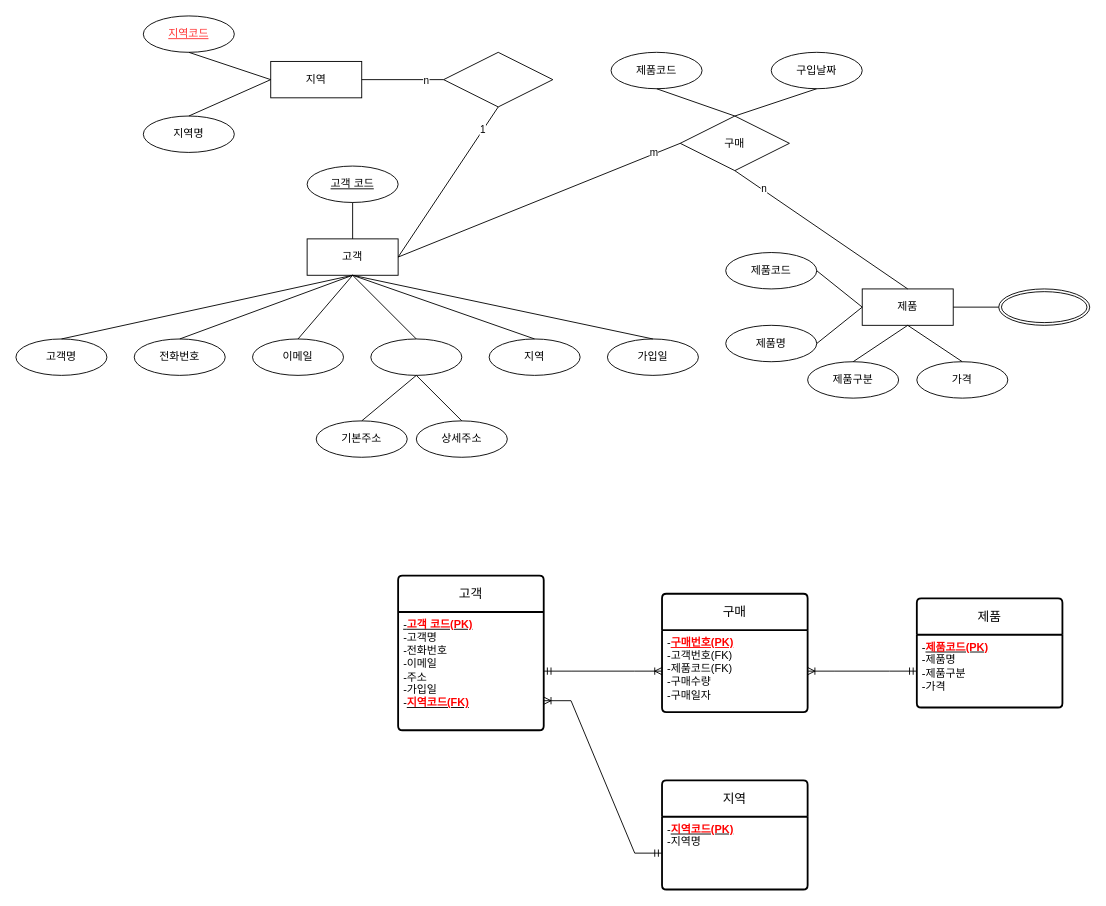
The diagram is 1106 pixels wide and 906 high, and some of its shapes have lost their labels. Here are the shapes that lost their labels. From the top down, the centre of each, then its label:
At (498,79): "관리".
At (1044,306): "제품색상".
At (416,356): "주소".
